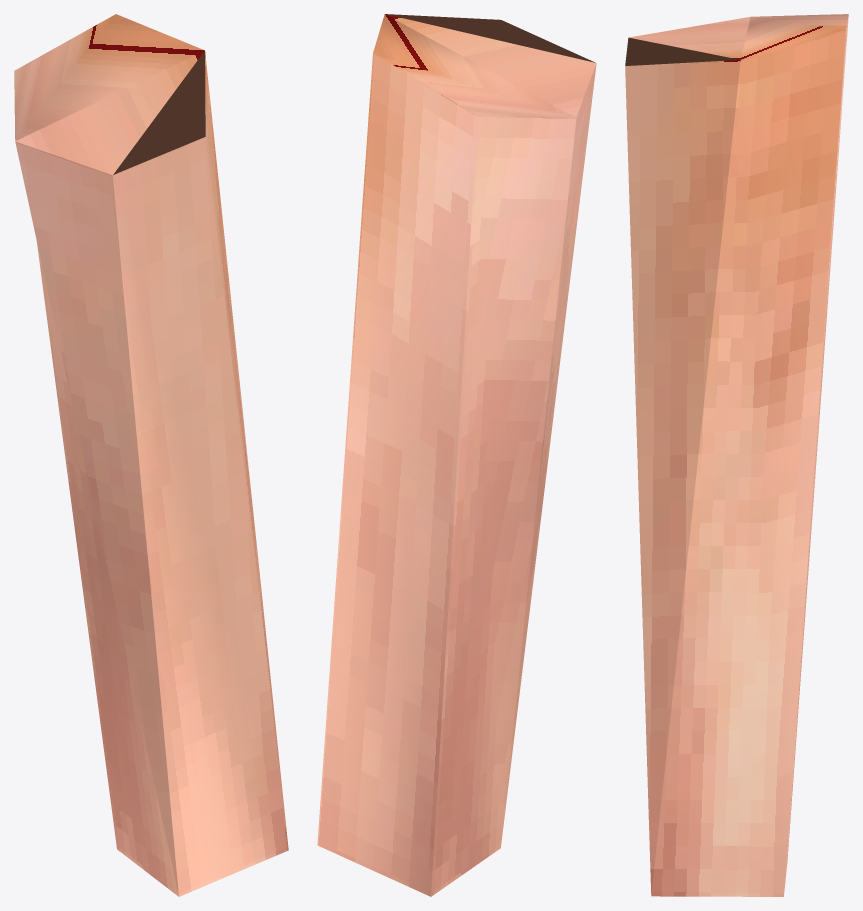
File: bro_fore_arm.glb
The picture shows the model from 3 angles, left to right: view 1: azimuth 30°, elevation 25°; view 2: azimuth 150°, elevation 25°; view 3: azimuth 270°, elevation 25°; orthographic projection. The views are drawn at different scales.
Visible parts, largest first — view 1: Bro.006; view 2: Bro.006; view 3: Bro.006.
Boxes of the visible parts, x1,y1,x2,y2 form: Bro.006: [14, 14, 288, 896]; Bro.006: [317, 14, 596, 896]; Bro.006: [625, 14, 848, 896].
Size of the model in its own units: 0.2188 by 0.7417 by 0.1775.
1 material, 1 textured.
